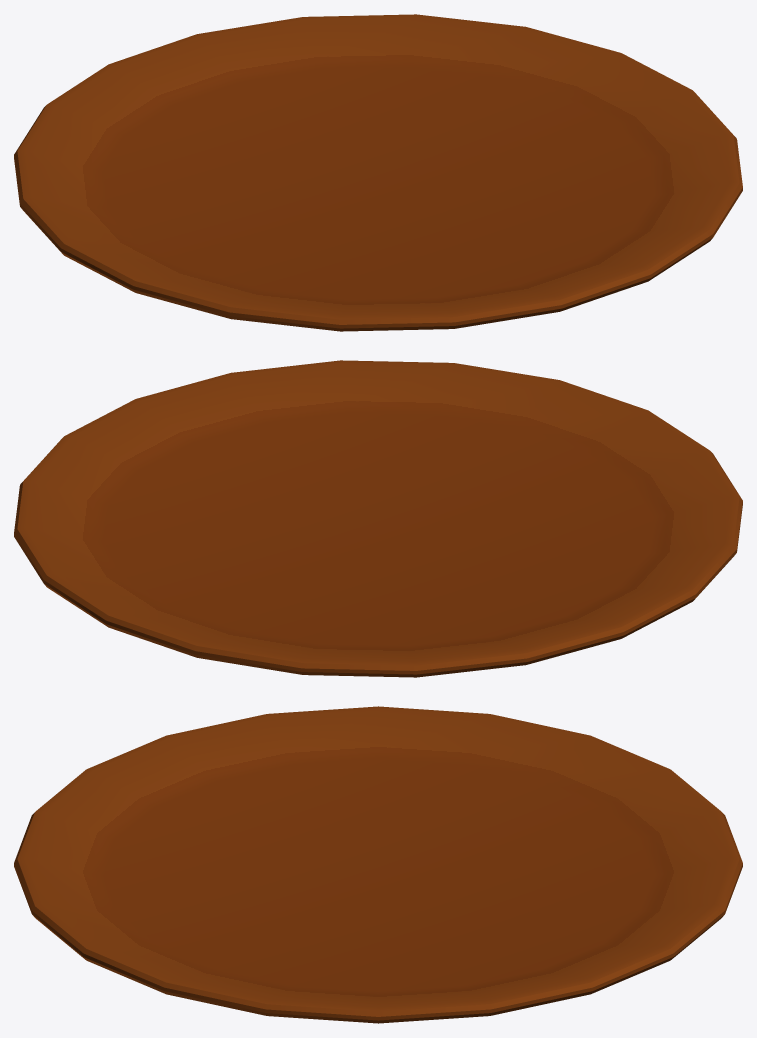
Rendered from Plate.glb.
3 views of the same model, one above another, from view 1: azimuth 30°, elevation 25°; view 2: azimuth 150°, elevation 25°; view 3: azimuth 270°, elevation 25° (orthographic).
Parts seen in each view (by area): view 1: Plate; view 2: Plate; view 3: Plate.
Part boxes in pixels (x1,y1,x2,y2): Plate: (14, 14, 742, 331); Plate: (14, 360, 742, 677); Plate: (14, 706, 742, 1023).
Size of the model in its own units: 0.3506 by 0.0205 by 0.3506.
1 material, 1 textured.
